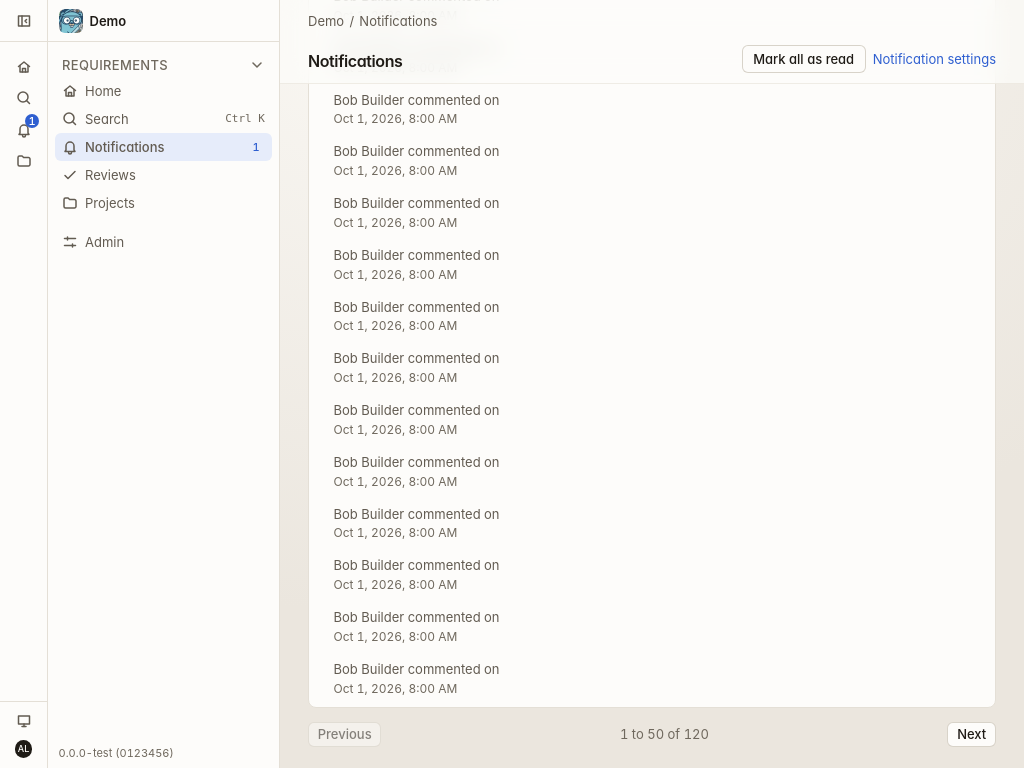
Test: the notifications page › walks the pages when there are more than one, and goes back to the first for the unread
The width and height of the screenshot is (1024, 768).
(page scrolled)
Expected: the text "1 to 50 of 120" is shown, [620, 724, 709, 744]
Expected: the button "Previous" is disabled, [308, 722, 381, 746]
Step 1. Click the button "Next" → click(972, 734), box [947, 722, 996, 746]
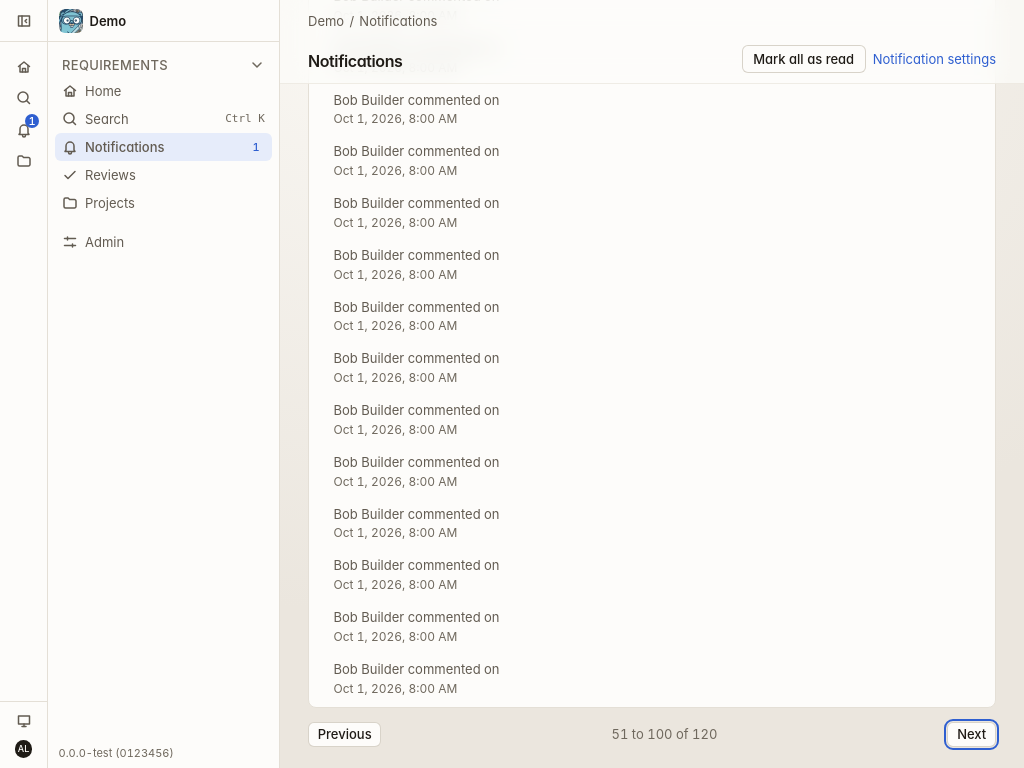
Now the text "51 to 100 of 120" is shown, box [612, 724, 717, 744]
Step 2. Click the button "Next" → click(972, 734), box [947, 722, 996, 746]
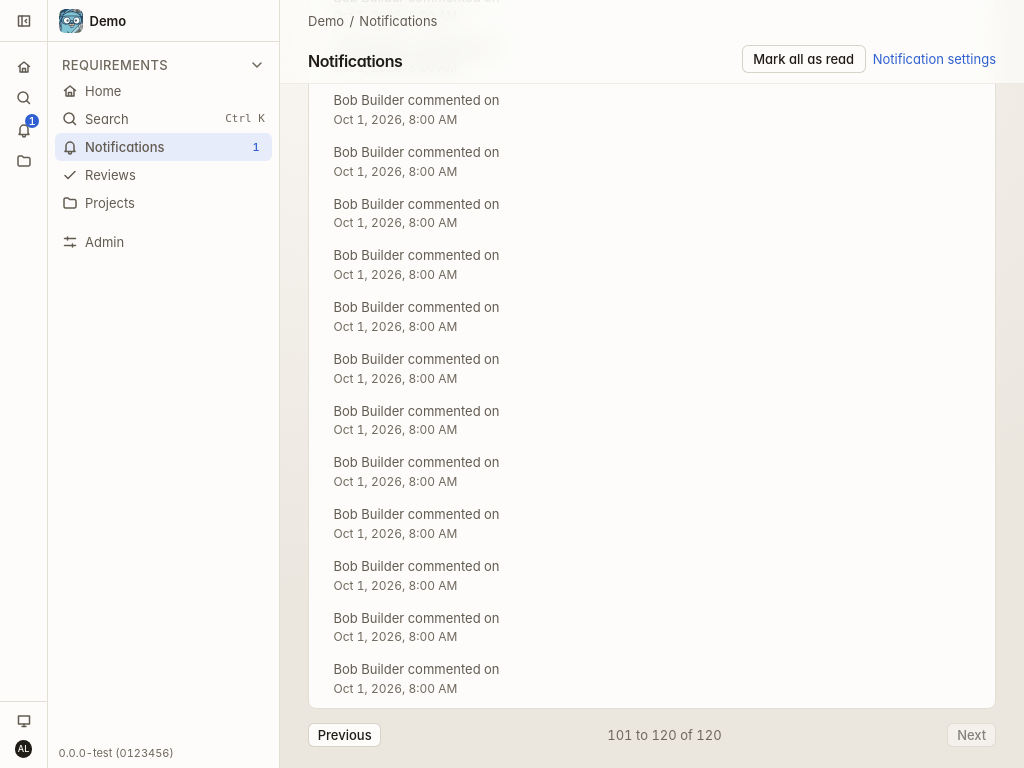
Now the text "101 to 120 of 120" is shown, box [607, 725, 722, 745]
Now the button "Next" is disabled, box [947, 722, 996, 747]
Step 3. Click the button "Previous" → click(345, 735), box [308, 722, 381, 747]
(page scrolled)
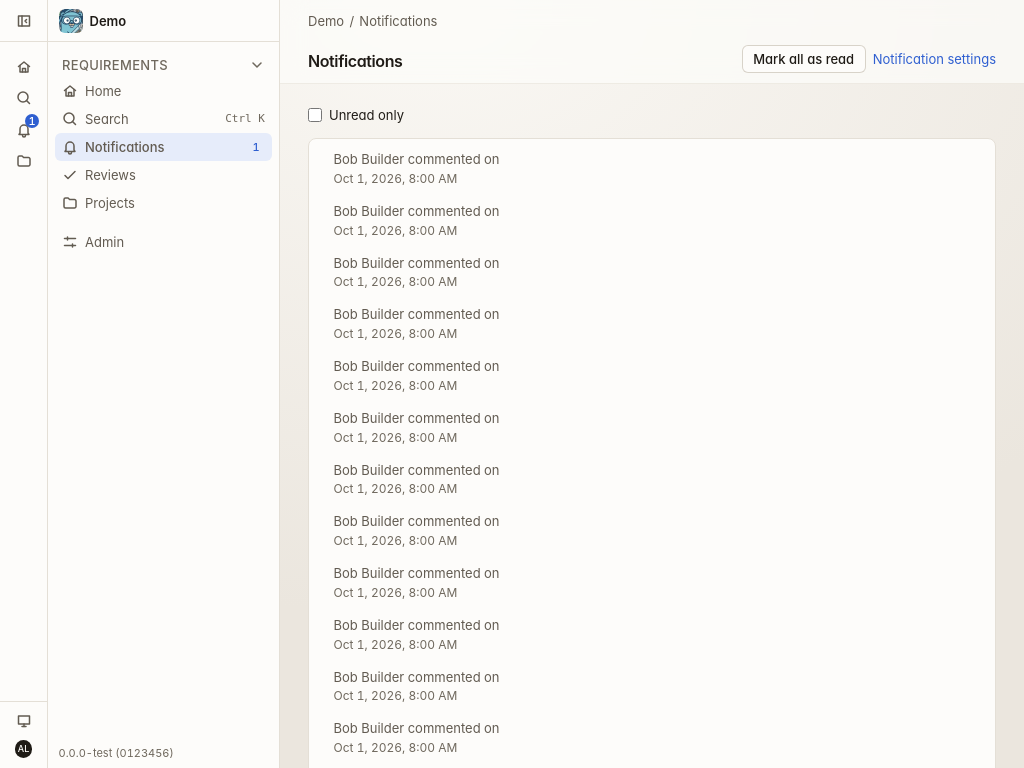
Step 4. Click the checkbox labelled "Unread only" → click(315, 115), box [308, 108, 322, 122]
(page scrolled)
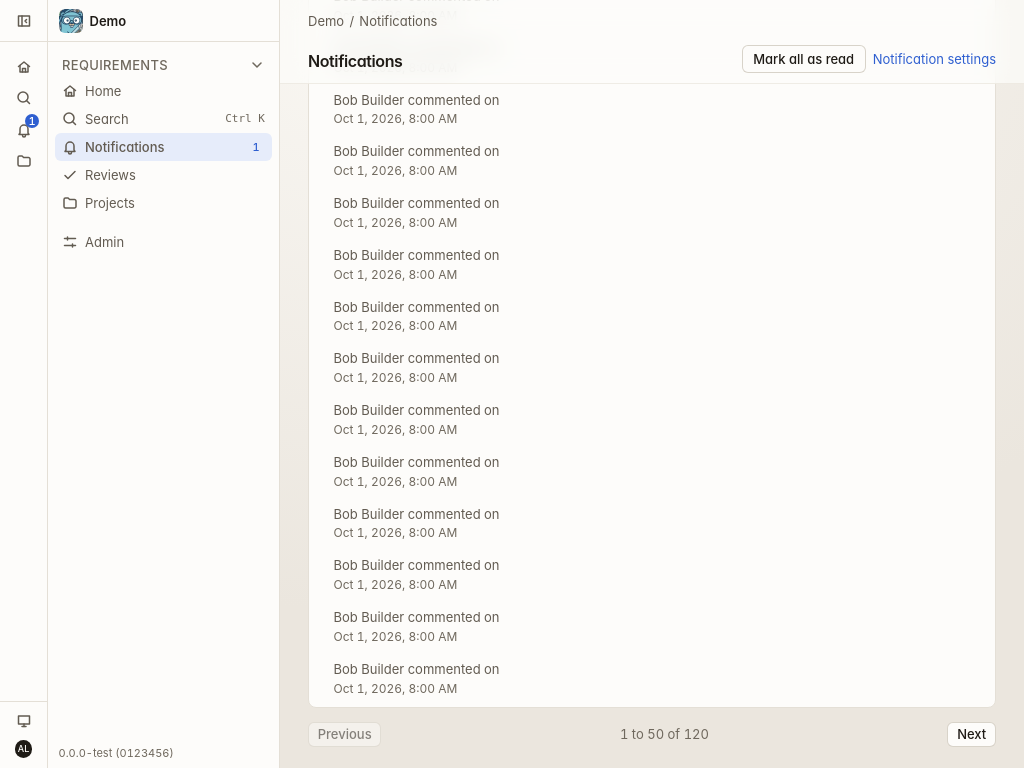
Now the text "1 to 50 of 120" is shown, box [620, 724, 709, 744]
